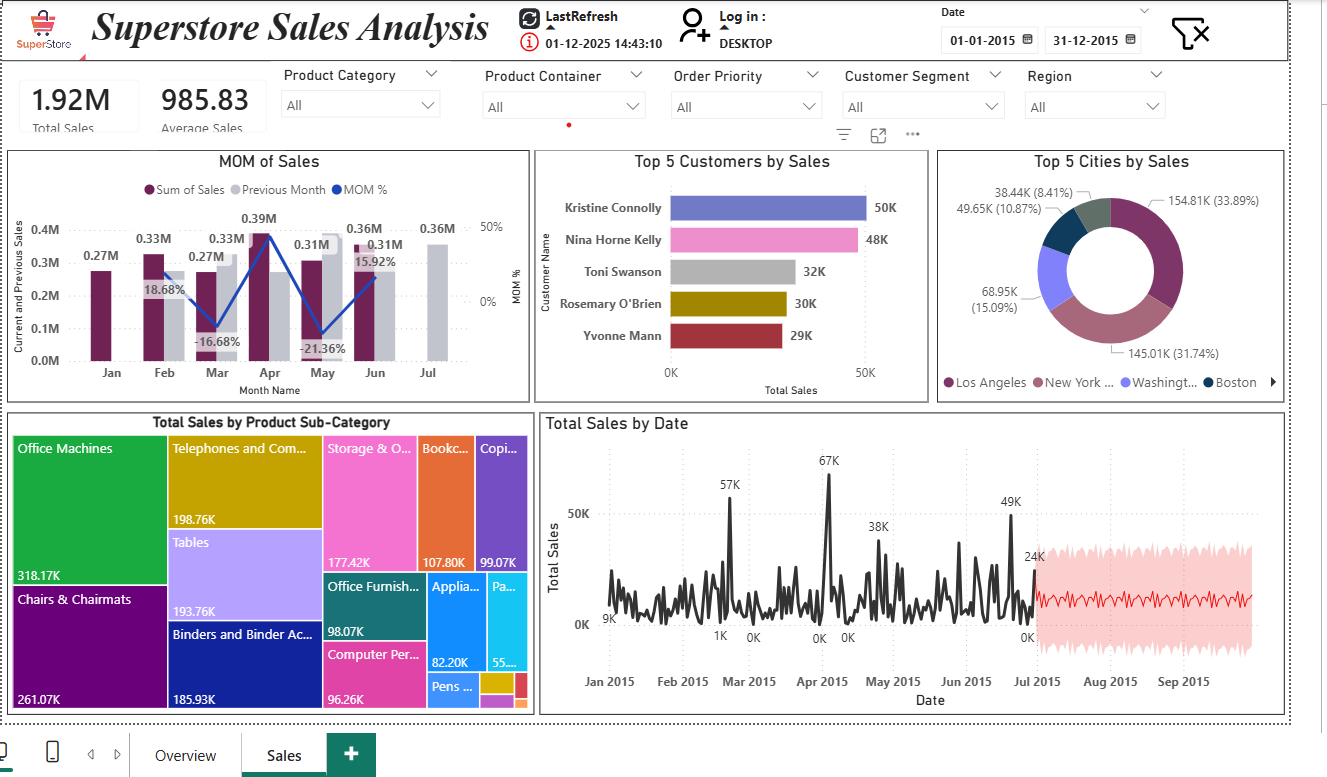

The page's visual inventory and layout, read from the dashboard file:
{"tool":"powerbi","page":{"name":"Sales","canvas":[1280,720],"ordinal":1},"visuals":[{"type":"group","id":"g1","title":"Title","box":[0,0,1280,61],"z":0},{"type":"textbox","box":[0,0,1280,61],"z":0,"group":"g1"},{"type":"lineClusteredColumnComboChart","title":"MOM of Sales","fields":{"Category":["Calendar.Month Name"],"Y":["Orders.Sales","1 Measure Table.Previous Month"],"Y2":["1 Measure Table.MOM %"]},"box":[5,149.3,520,251.3],"z":1},{"type":"cardVisual","fields":{"Data":["1 Measure Table.Average Sales"]},"box":[128.1,62.2,153,87.1],"z":3},{"type":"slicer","fields":{"Values":["Orders.Product Category"]},"box":[267.5,61,179.1,69.7],"z":4},{"type":"slicer","fields":{"Values":["Orders.Product Container"]},"box":[467.7,62.2,182.9,69.7],"z":5},{"type":"slicer","fields":{"Values":["Orders.Order Priority"]},"box":[655.6,62.2,170.4,69.7],"z":6},{"type":"slicer","fields":{"Values":["Orders.Region"]},"box":[1007.6,62.2,160.5,75.9],"z":7},{"type":"slicer","fields":{"Values":["Orders.Customer Segment"]},"box":[826,62.2,181.6,70.9],"z":8},{"type":"cardVisual","fields":{"Data":["1 Measure Table.Total Sales"]},"box":[0,62.2,154.3,87.1],"z":9},{"type":"treemap","fields":{"Group":["Orders.Product Sub-Category"],"Values":["1 Measure Table.Total Sales"]},"box":[5,410.5,525,301],"z":10},{"type":"clusteredBarChart","title":"Top 5 Customers by Sales","fields":{"Category":["Orders.Customer Name"],"Y":["1 Measure Table.Total Sales"]},"box":[529.9,149.3,391.8,251.3],"z":11},{"type":"lineChart","fields":{"Category":["Calendar.Date"],"Y":["1 Measure Table.Total Sales"]},"box":[534.9,410.5,741.4,301],"z":12},{"type":"donutChart","title":"Top 5 Cities by Sales","fields":{"Category":["Orders.City"],"Y":["1 Measure Table.Total Sales"]},"box":[930.5,149.3,345.8,251.3],"z":13},{"type":"tableEx","fields":{"Values":["Refresh Table.LastRefresh"]},"box":[529.9,0,149.3,61],"z":1000,"group":"g1"},{"type":"tableEx","title":"Log in :","fields":{"Values":["1 Measure Table.User"]},"box":[702.8,0,245.1,59.7],"z":2000,"group":"g1"},{"type":"slicer","fields":{"Values":["Calendar.Date"]},"box":[921.8,0,232.6,61],"z":3000,"group":"g1"},{"type":"image","box":[1159.4,12.4,47.3,42.3],"z":4000,"group":"g1"},{"type":"image","box":[668,0,38.6,51],"z":5000,"group":"g1"},{"type":"image","box":[503.8,6.2,42.3,24.9],"z":6000,"group":"g1"},{"type":"image","box":[503.8,27.4,42.3,28.6],"z":6500,"group":"g1"},{"type":"image","box":[0,6.2,83.3,53.5],"z":7000,"group":"g1"}]}

Visuals, with their boxes on the page's 1280x720 design canvas (x1, y1, x2, y2). These are canvas units, not pixel positions in the 1327x777 screenshot, which may show the page scaled, cropped or inside an application window:
"Title" group: 0, 0, 1280, 61
textbox: 0, 0, 1280, 61
"MOM of Sales" lineClusteredColumnComboChart: 5, 149, 525, 401
cardVisual - 1 Measure Table.Average Sales: 128, 62, 281, 149
slicer - Orders.Product Category: 268, 61, 447, 131
slicer - Orders.Product Container: 468, 62, 651, 132
slicer - Orders.Order Priority: 656, 62, 826, 132
slicer - Orders.Region: 1008, 62, 1168, 138
slicer - Orders.Customer Segment: 826, 62, 1008, 133
cardVisual - 1 Measure Table.Total Sales: 0, 62, 154, 149
treemap - Orders.Product Sub-Category x 1 Measure Table.Total Sales: 5, 410, 530, 712
"Top 5 Customers by Sales" clusteredBarChart: 530, 149, 922, 401
lineChart - Calendar.Date x 1 Measure Table.Total Sales: 535, 410, 1276, 712
"Top 5 Cities by Sales" donutChart: 930, 149, 1276, 401
tableEx - Refresh Table.LastRefresh: 530, 0, 679, 61
"Log in :" tableEx: 703, 0, 948, 60
slicer - Calendar.Date: 922, 0, 1154, 61
image: 1159, 12, 1207, 55
image: 668, 0, 707, 51
image: 504, 6, 546, 31
image: 504, 27, 546, 56
image: 0, 6, 83, 60
